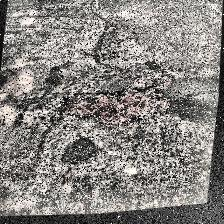pothole: (68, 80, 172, 136)
